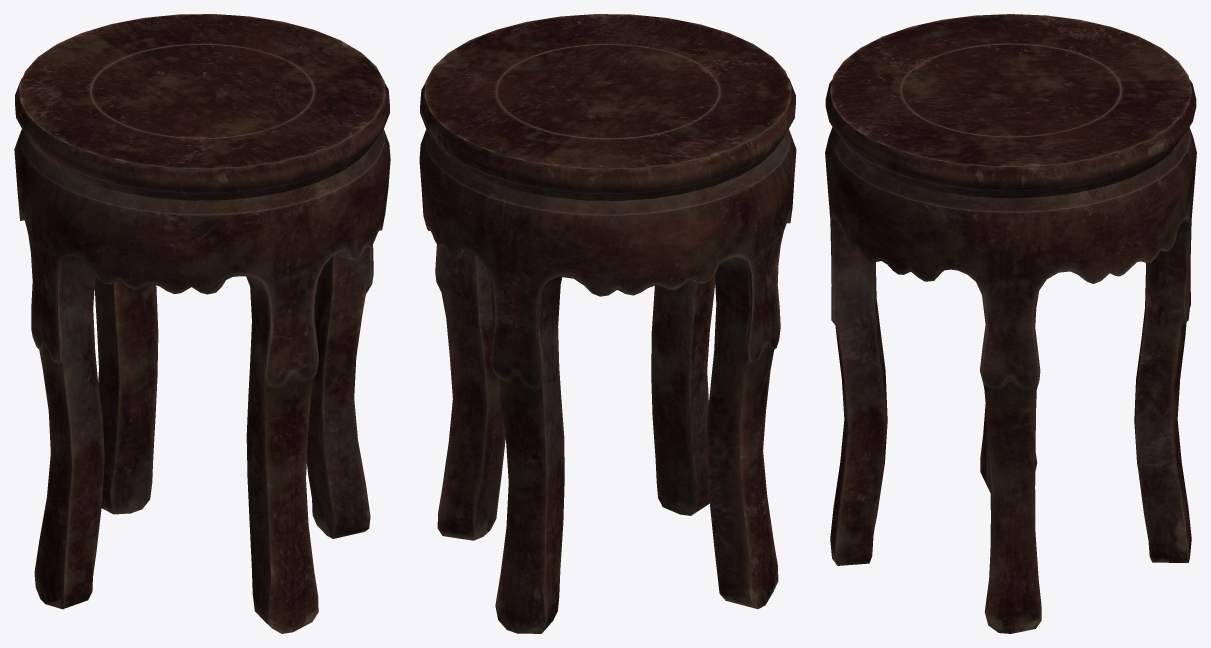
File: WoodenTable_02_1k.gltf
3 renders of one model, left to right at view 1: azimuth 30°, elevation 25°; view 2: azimuth 150°, elevation 25°; view 3: azimuth 270°, elevation 25°, orthographic.
Visible parts, largest first — view 1: WoodenTable_02; view 2: WoodenTable_02; view 3: WoodenTable_02.
Boxes of the visible parts, left/top/right/bottom form: WoodenTable_02: left=14, top=14, right=390, bottom=633; WoodenTable_02: left=419, top=14, right=796, bottom=633; WoodenTable_02: left=825, top=14, right=1196, bottom=633.
Bounding box in the file's own units: 0.3007 × 0.4177 × 0.3007.
Materials: 1 (1 with a texture image).
